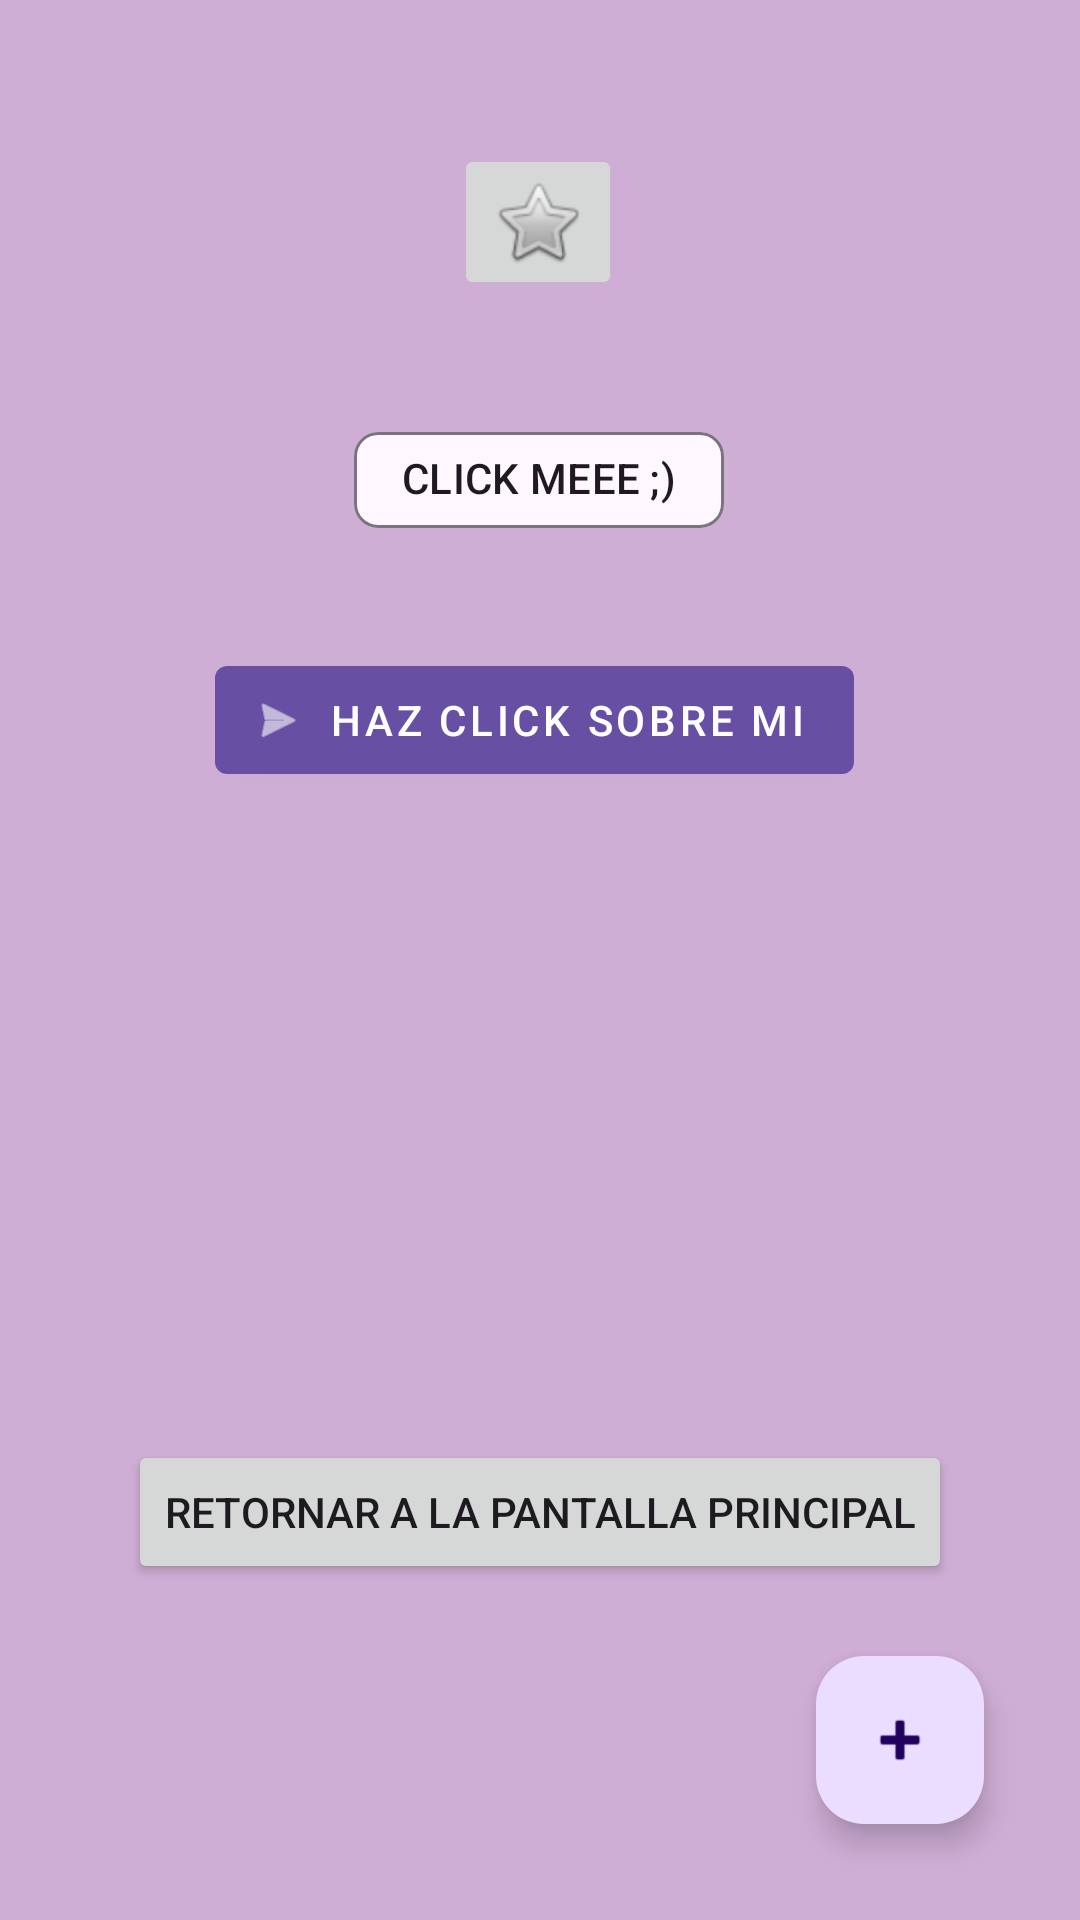

Where to tap for icons on this 1080*1920 app screen, as (x,y):
Botón de icono con una estrella: (538,222)
Botón flotante para agregar: (900,1740)
